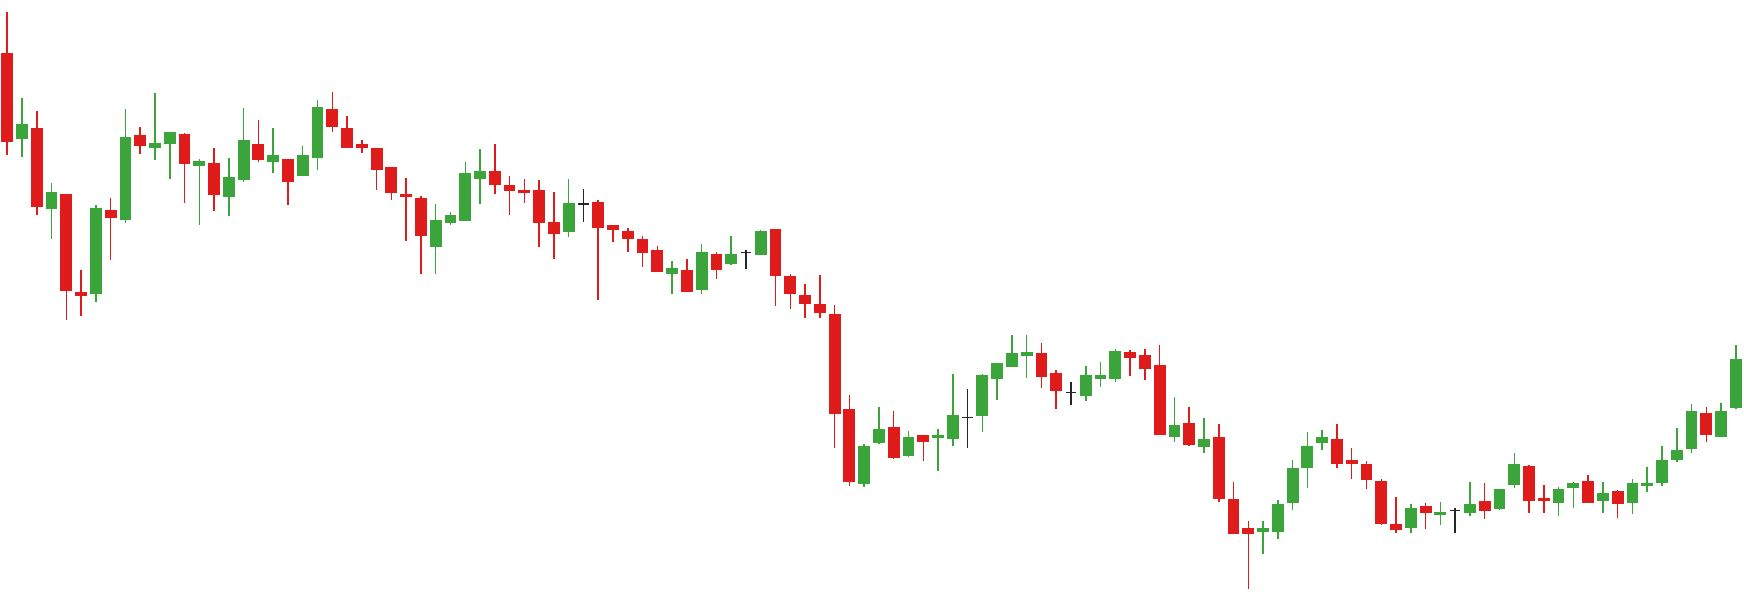sell: (234, 93, 338, 172)
